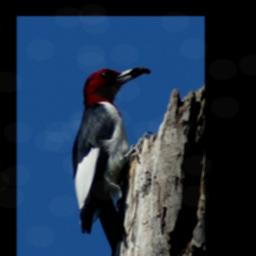Woodpecker: (71, 65, 150, 256)
